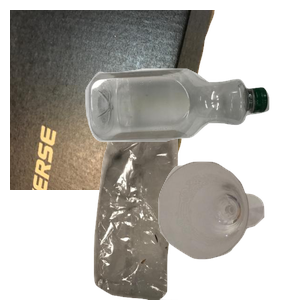cardboard: (10, 10, 217, 190)
glass: (156, 159, 300, 300)
plastic: (83, 66, 300, 201)
trash: (70, 120, 256, 300)
